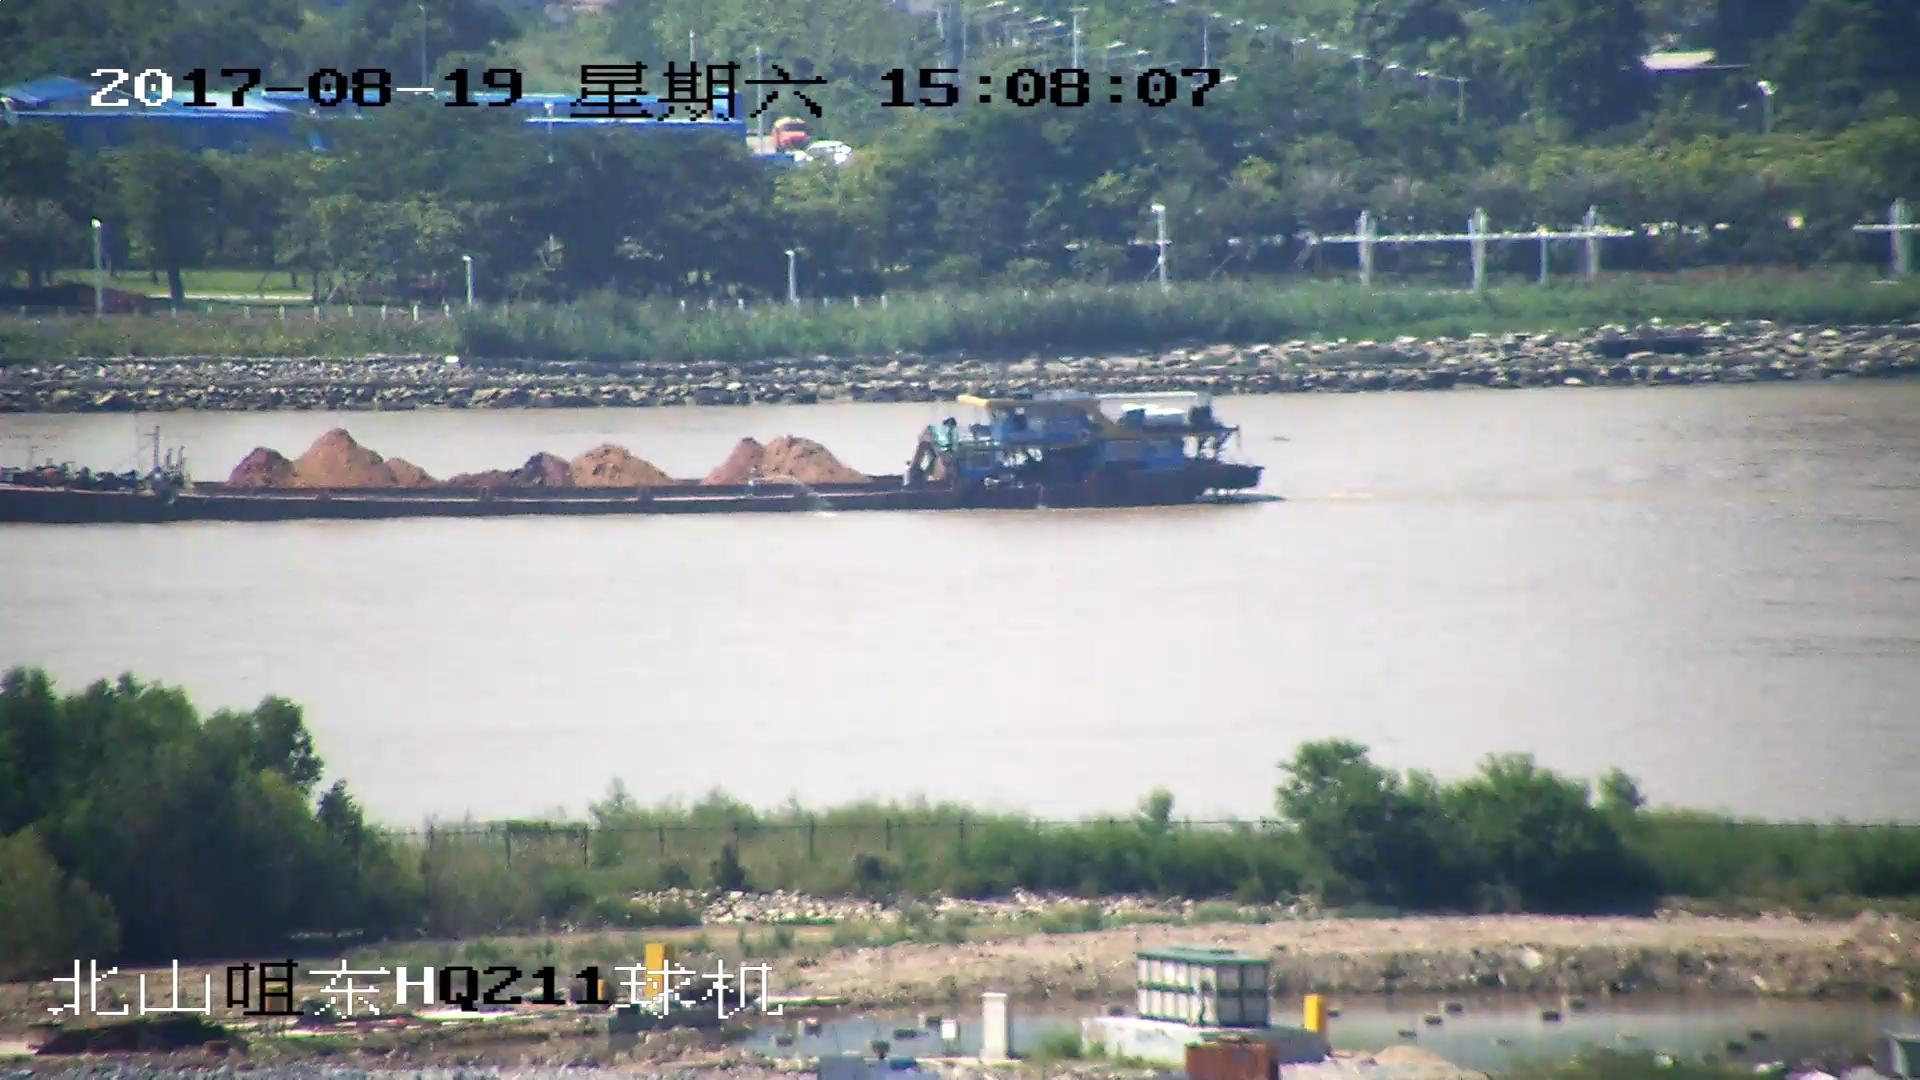Ship: (3, 390, 1262, 524)
